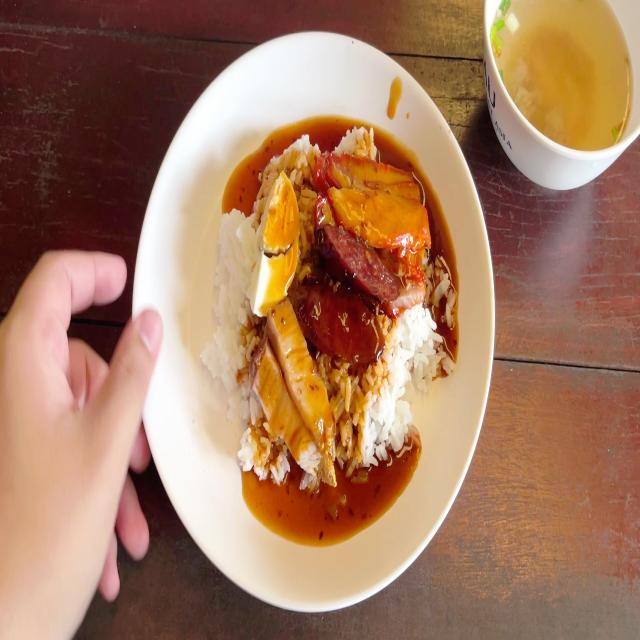boiled_egg: (247, 178, 303, 308)
chainese_sausage: (294, 255, 375, 363), (311, 205, 396, 305)
crispy_pork: (268, 306, 330, 438), (258, 351, 314, 468)
red_pork: (322, 155, 424, 235), (312, 152, 432, 207), (324, 183, 430, 242)
red_pork_and_crispy_pork: (204, 131, 453, 499)
rice: (354, 325, 438, 458), (205, 214, 254, 402)
